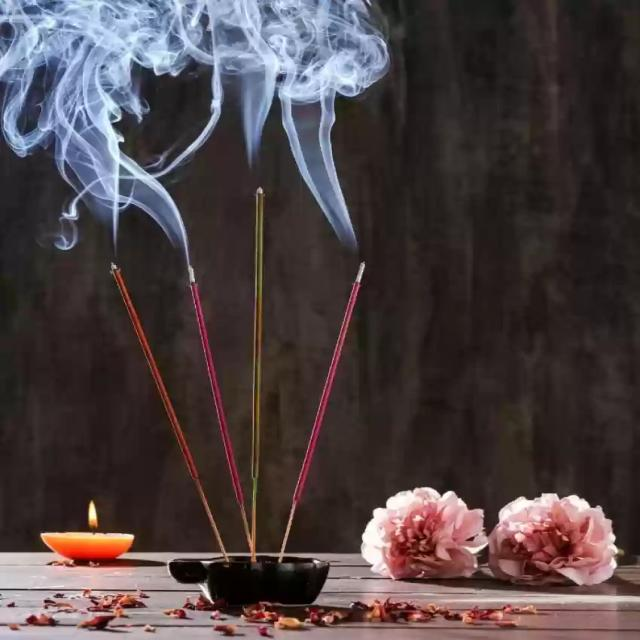Agarbatti: (283, 253, 378, 526), (94, 237, 176, 455), (244, 183, 288, 457), (185, 241, 242, 452)
